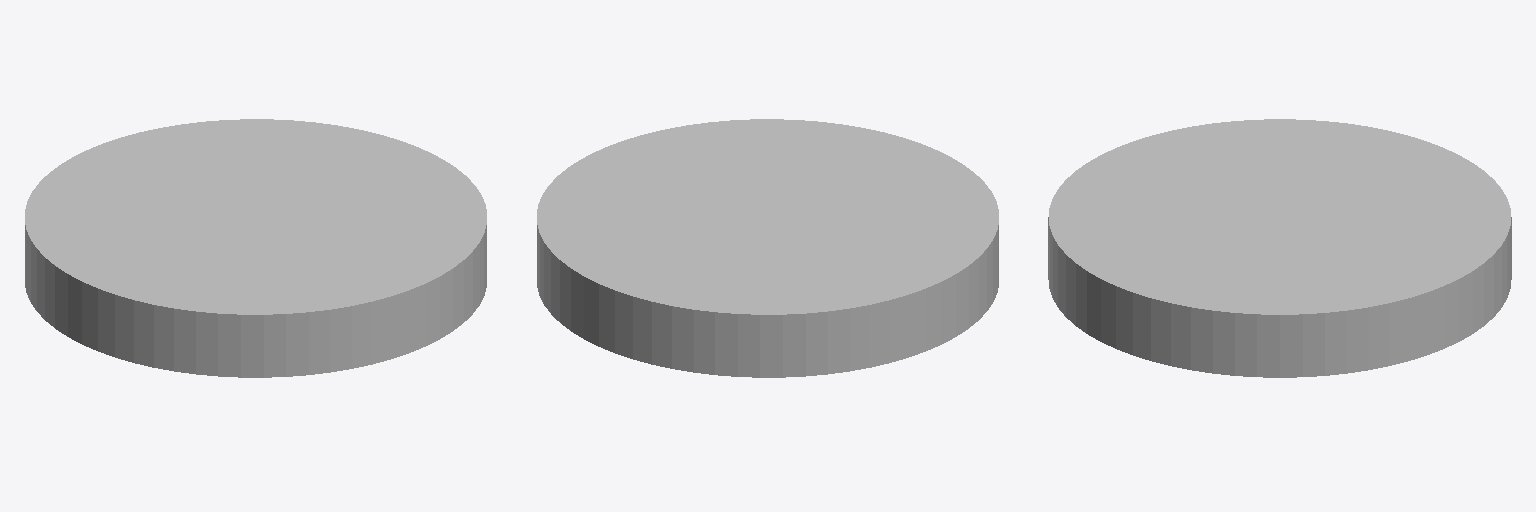
The model's file is btn3.obj.
3 views of the same model, side by side, from view 1: azimuth 30°, elevation 25°; view 2: azimuth 150°, elevation 25°; view 3: azimuth 270°, elevation 25° (orthographic).
Visible parts, largest first — view 1: obj_0; view 2: obj_0; view 3: obj_0.
Boxes of the visible parts, x1,y1,x2,y2 form: obj_0: [25, 119, 486, 377]; obj_0: [537, 119, 998, 377]; obj_0: [1048, 119, 1511, 377].
Size of the model in its own units: 20 by 3.71 by 20.